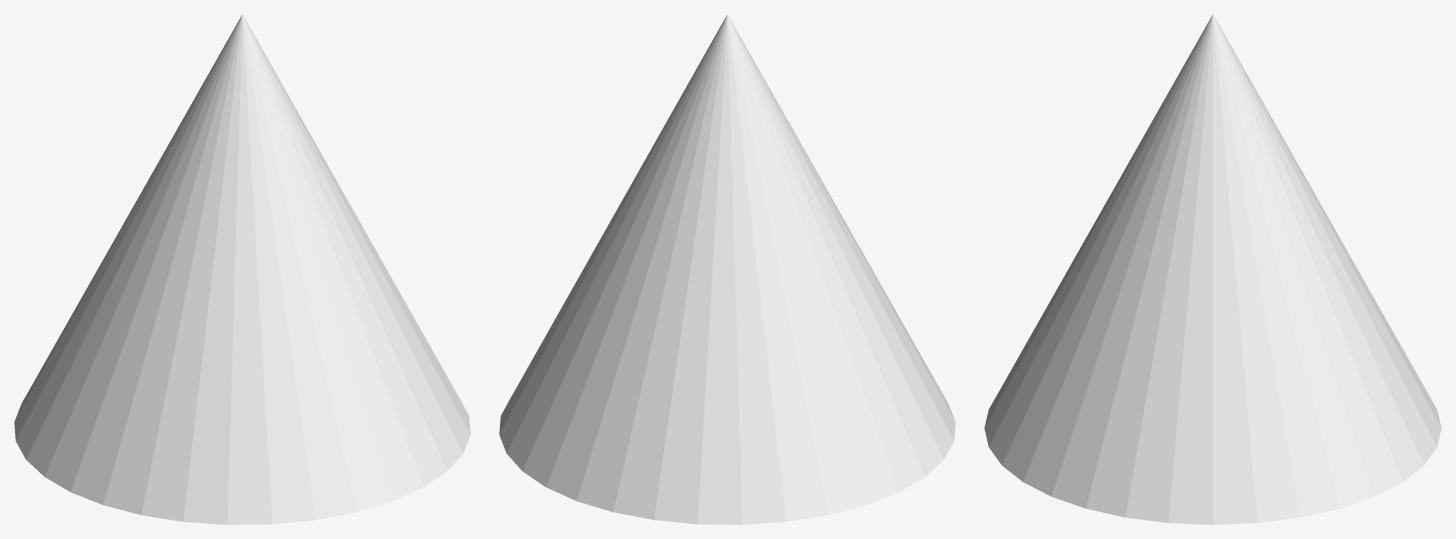
Rendered from sankaku.obj.
The picture shows the model from 3 angles, left to right: view 1: azimuth 30°, elevation 25°; view 2: azimuth 150°, elevation 25°; view 3: azimuth 270°, elevation 25°; orthographic projection.
Parts seen in each view (by area): view 1: 円錐; view 2: 円錐; view 3: 円錐.
Boxes of the visible parts, left/top/right/bottom form: 円錐: left=14, top=14, right=470, bottom=524; 円錐: left=499, top=14, right=955, bottom=524; 円錐: left=984, top=14, right=1441, bottom=524.
Size of the model in its own units: 2 by 2 by 2.
